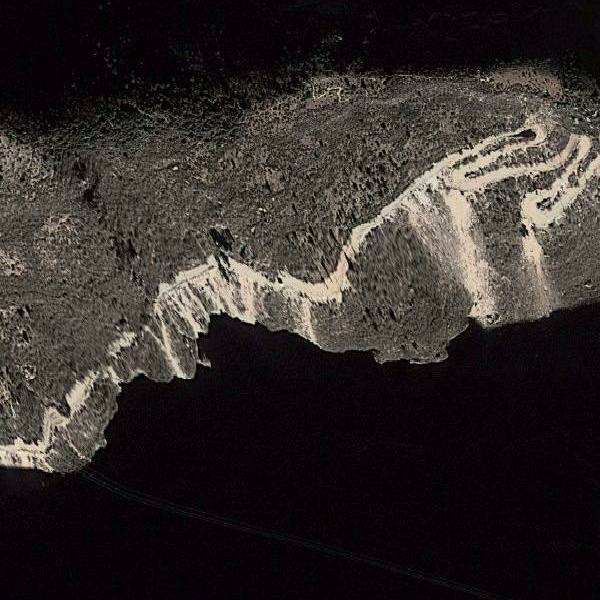slope: (400, 175, 498, 324), (162, 268, 264, 340), (519, 234, 547, 272)
